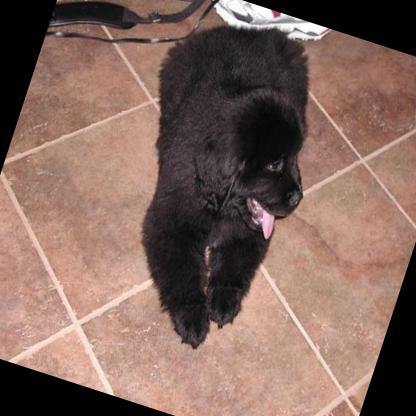Newfoundland: (78, 0, 354, 371)
